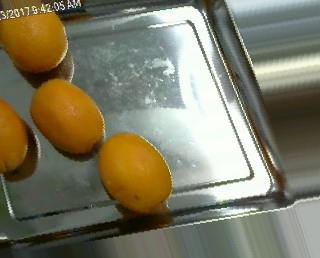Orange: (97, 131, 173, 214), (31, 77, 105, 153)
